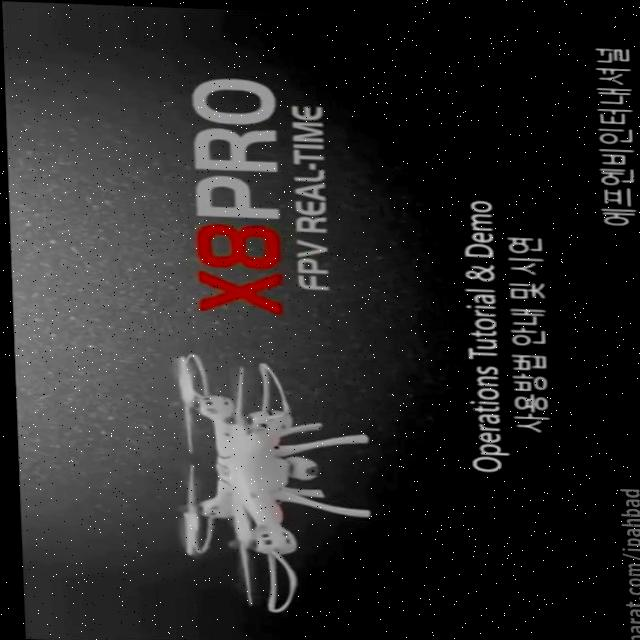drone: (170, 353, 372, 614)
